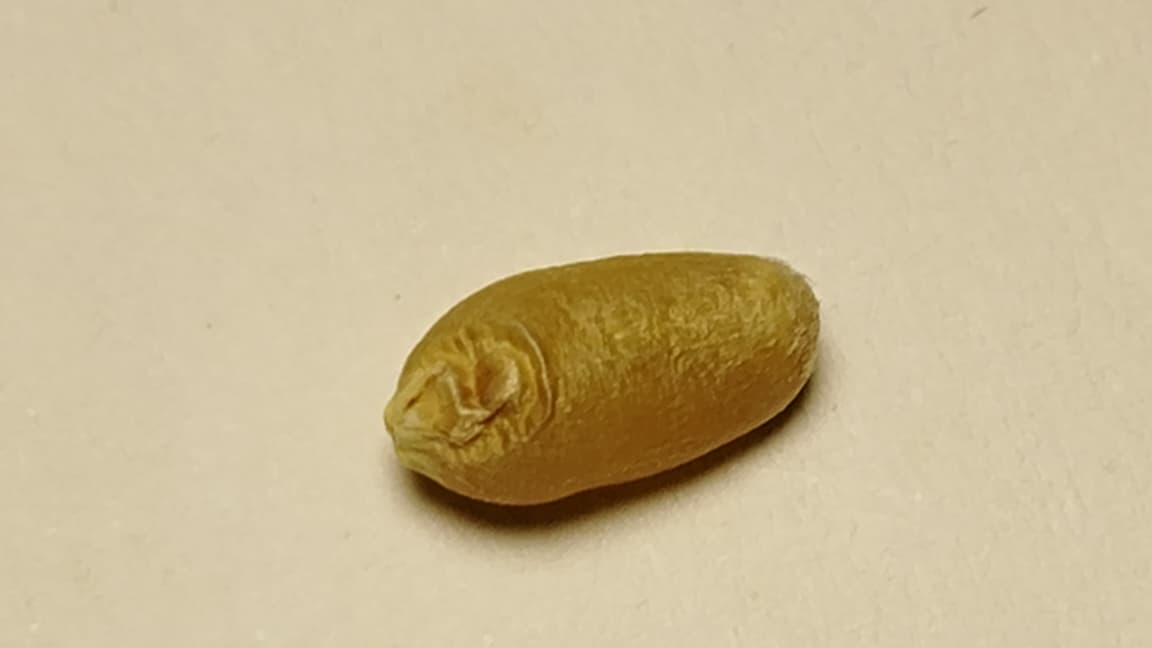healthy: (386, 253, 819, 502)
